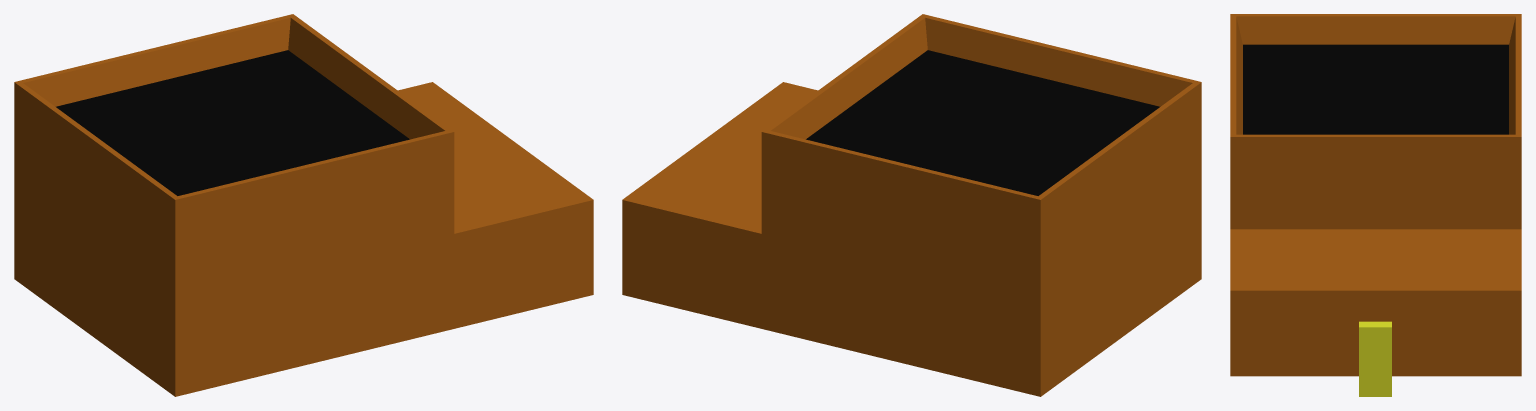
Rendered from Chest.fbx.
3 renders of one model, left to right at view 1: azimuth 30°, elevation 25°; view 2: azimuth 150°, elevation 25°; view 3: azimuth 270°, elevation 25°, orthographic. The views are drawn at different scales.
Parts seen in each view (by area): view 1: ChestDown, ChestUp; view 2: ChestDown, ChestUp; view 3: ChestDown, ChestUp.
Boxes of the visible parts, x1,y1,x2,y2 form: ChestDown: [14, 14, 454, 396]; ChestUp: [398, 82, 593, 328]; ChestDown: [761, 14, 1201, 396]; ChestUp: [622, 82, 901, 362]; ChestDown: [1230, 14, 1521, 229]; ChestUp: [1230, 229, 1521, 396].
Bounding box in the file's own units: 309 × 146 × 200.
